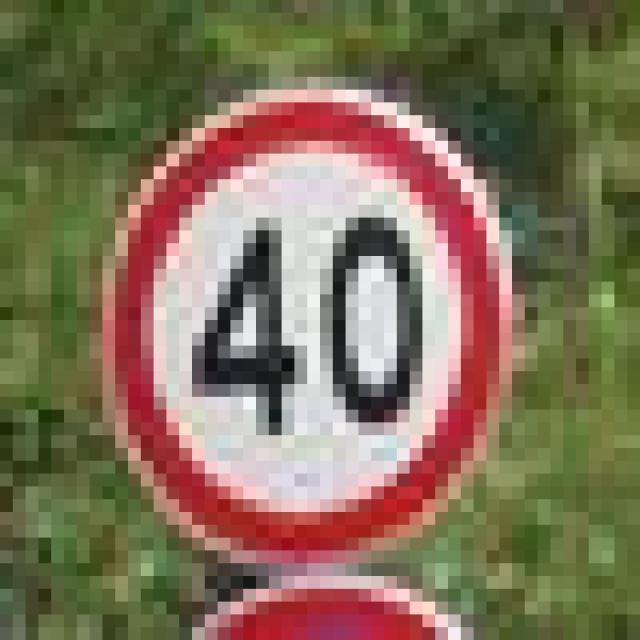falling_rocks: (77, 64, 512, 550)
